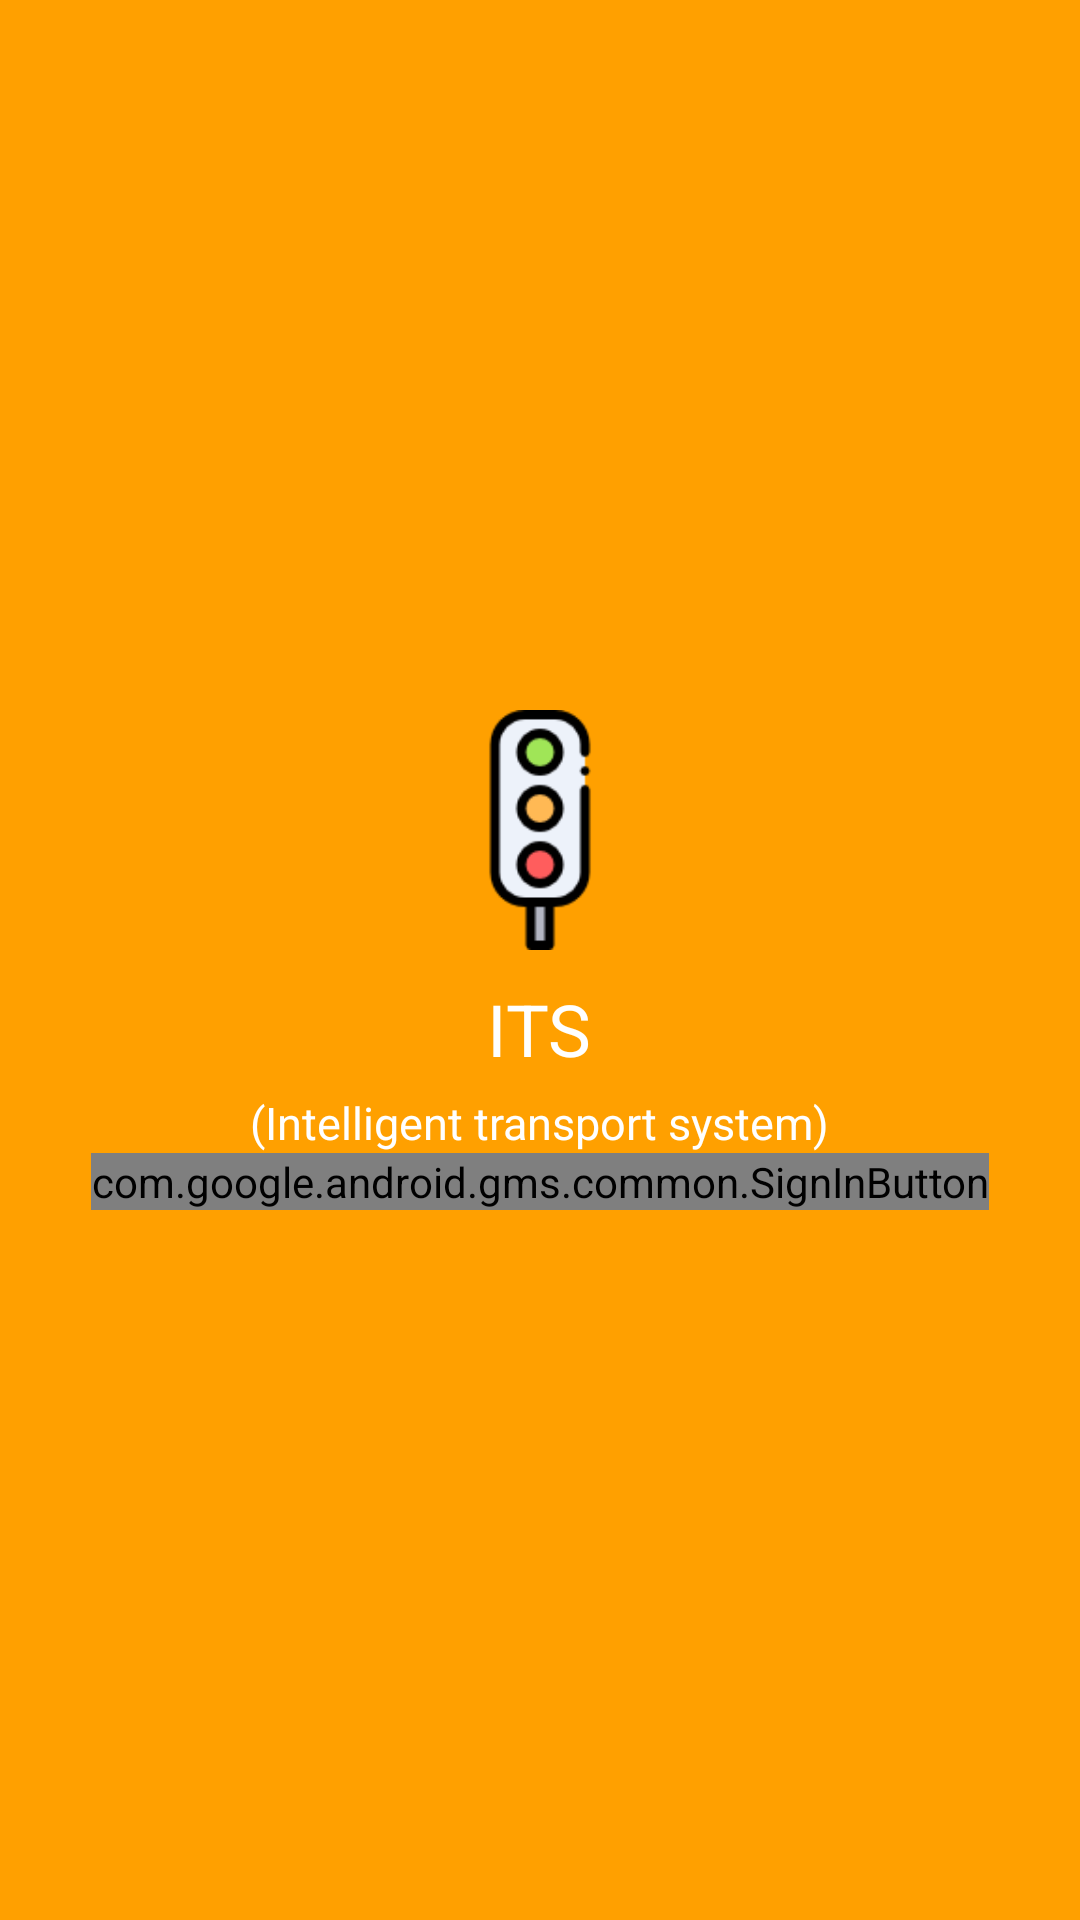

Icons on this 1080×1920 Android screen, each with the point to tap as point (x, y):
traffic lights: point (540, 830)
